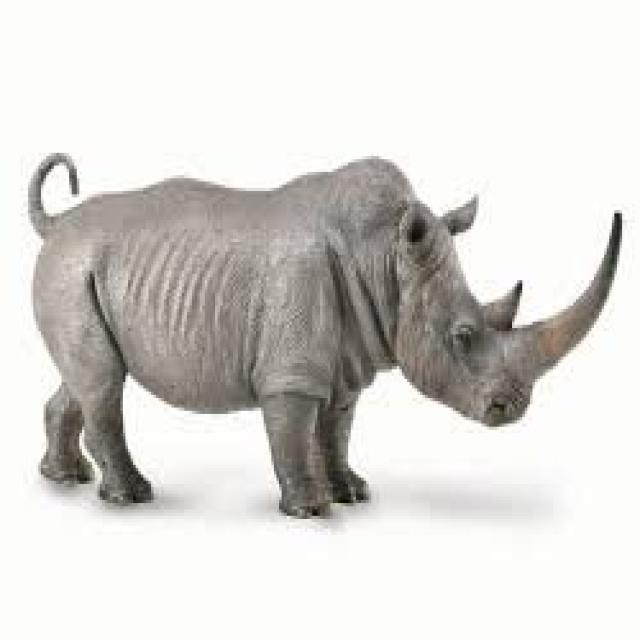rhinoceros: (28, 153, 620, 516)
